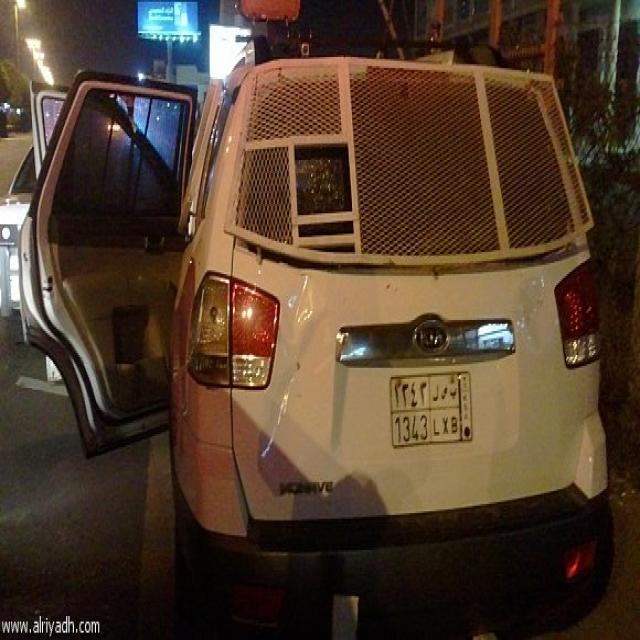license_plate: (388, 370, 474, 450)
